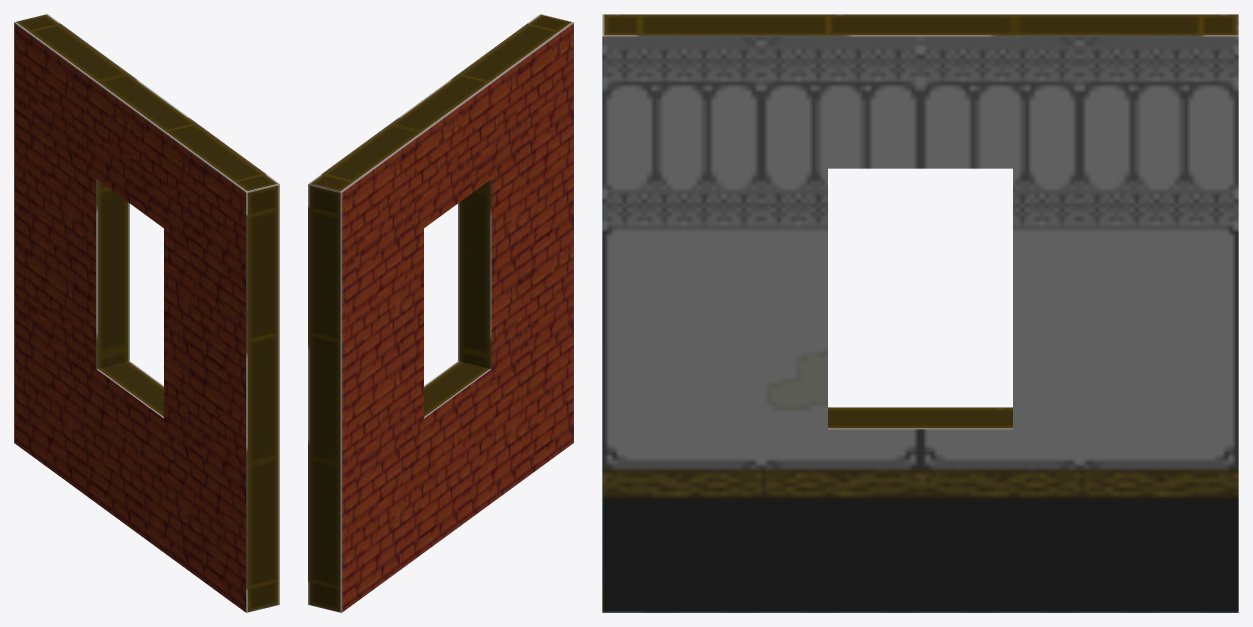
Rendered from Wall_Window_02.fbx.
The picture shows the model from 3 angles, left to right: view 1: azimuth 30°, elevation 25°; view 2: azimuth 150°, elevation 25°; view 3: azimuth 270°, elevation 25°; orthographic projection. The views are drawn at different scales.
Visible parts, largest first — view 1: Wall_Window_02; view 2: Wall_Window_02; view 3: Wall_Window_02.
Boxes of the visible parts, x1,y1,x2,y2 form: Wall_Window_02: [14, 14, 279, 612]; Wall_Window_02: [308, 14, 573, 612]; Wall_Window_02: [602, 14, 1238, 612].
Bounding box in the file's own units: 50 × 600 × 600.
